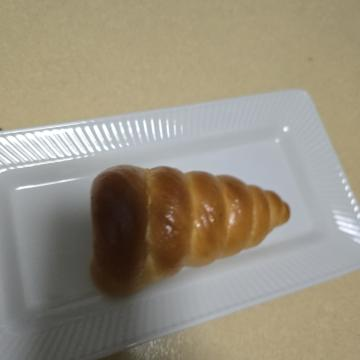cream horn: (132, 54, 322, 288)
